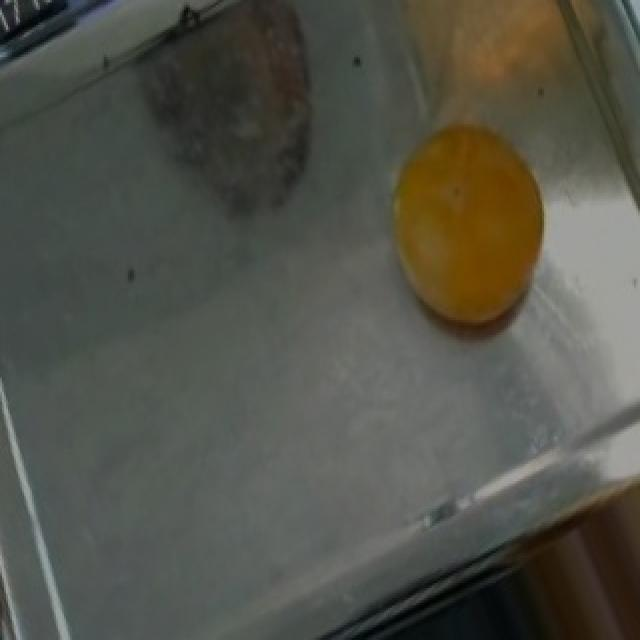Fruit: (366, 112, 574, 350)
